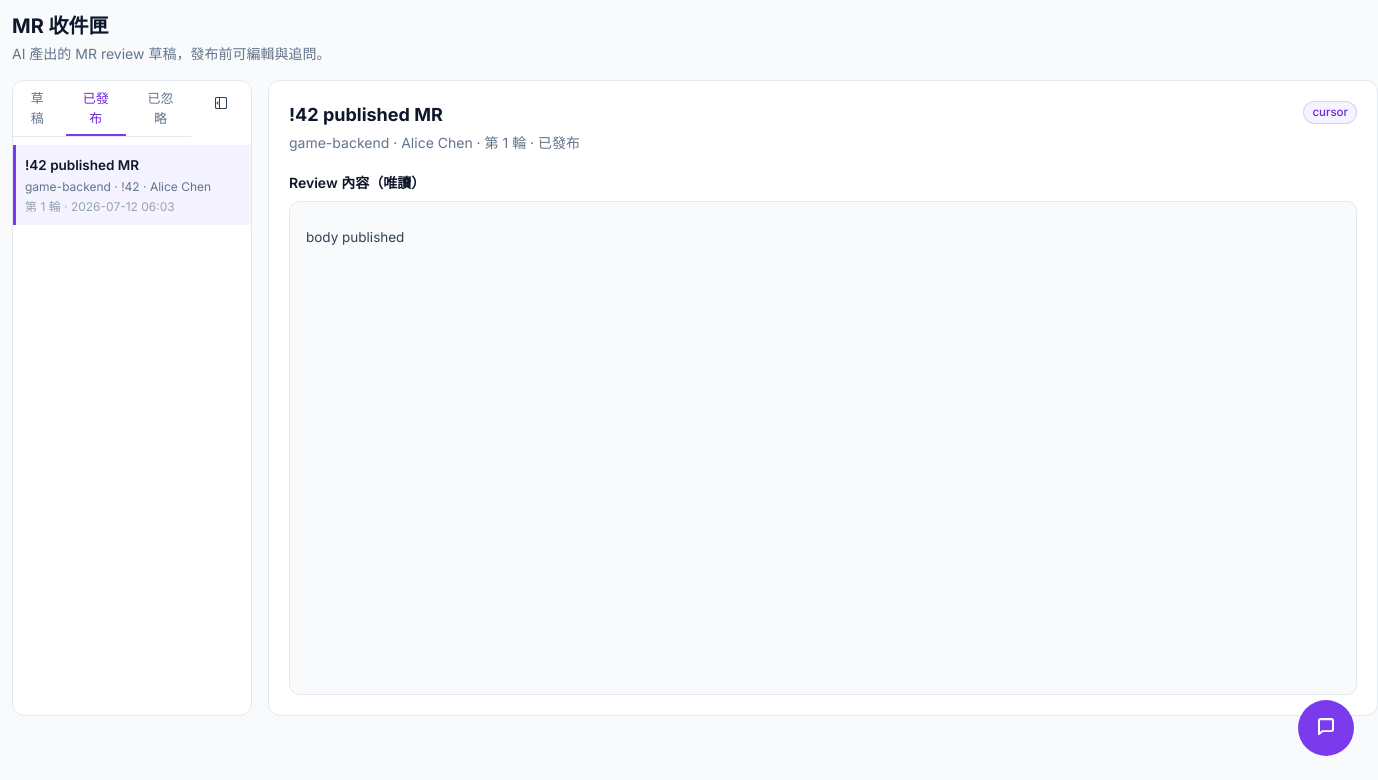
Test: MrInboxPage › shows published chat history as read-only without send controls
What coordinates should you click on to do the following:
click the button named "展開 Agent Chat"
I would click on:
 (1326, 728)
Its box is [1298,700,1354,756].
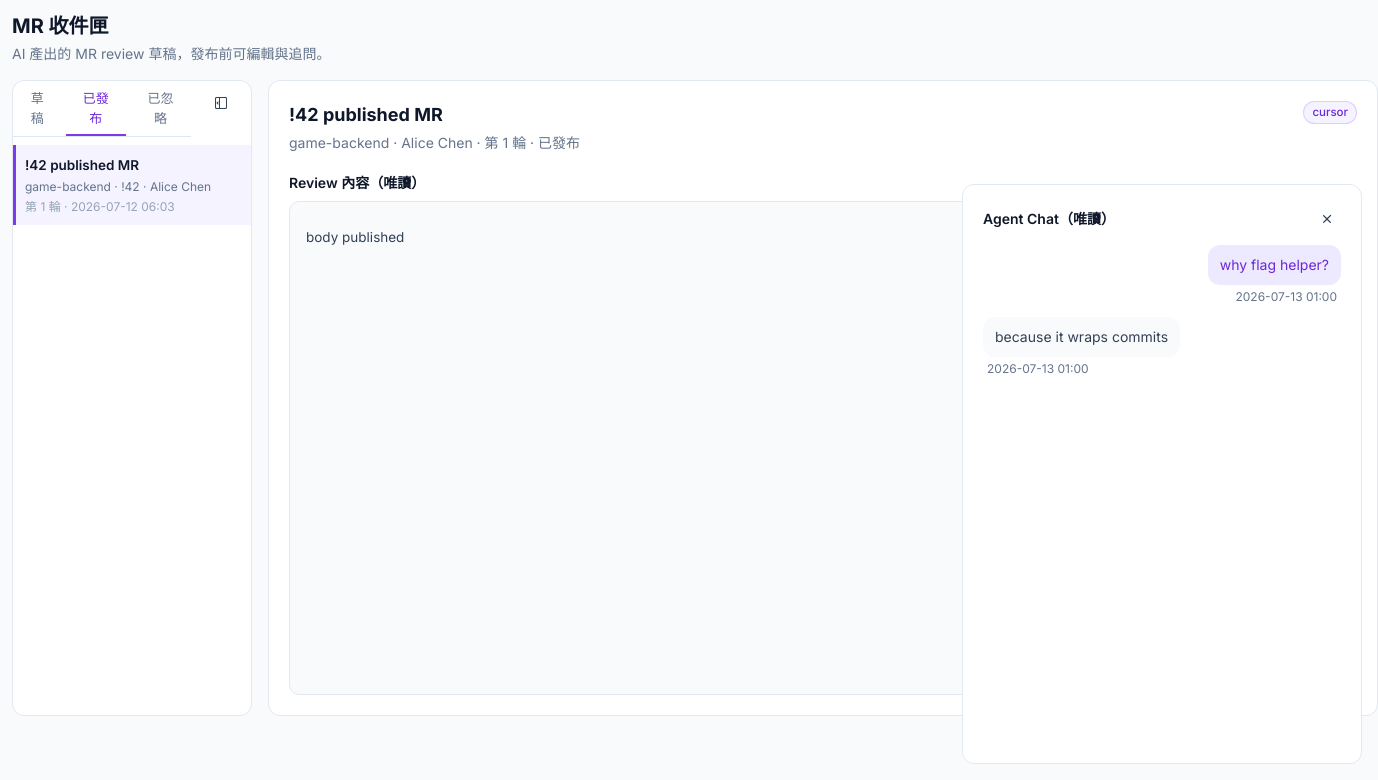
Now the heading "Agent Chat（唯讀）" is shown, box [983,209,1115,229]
Now the text "why flag helper?" is shown, box [1208,245,1341,285]
